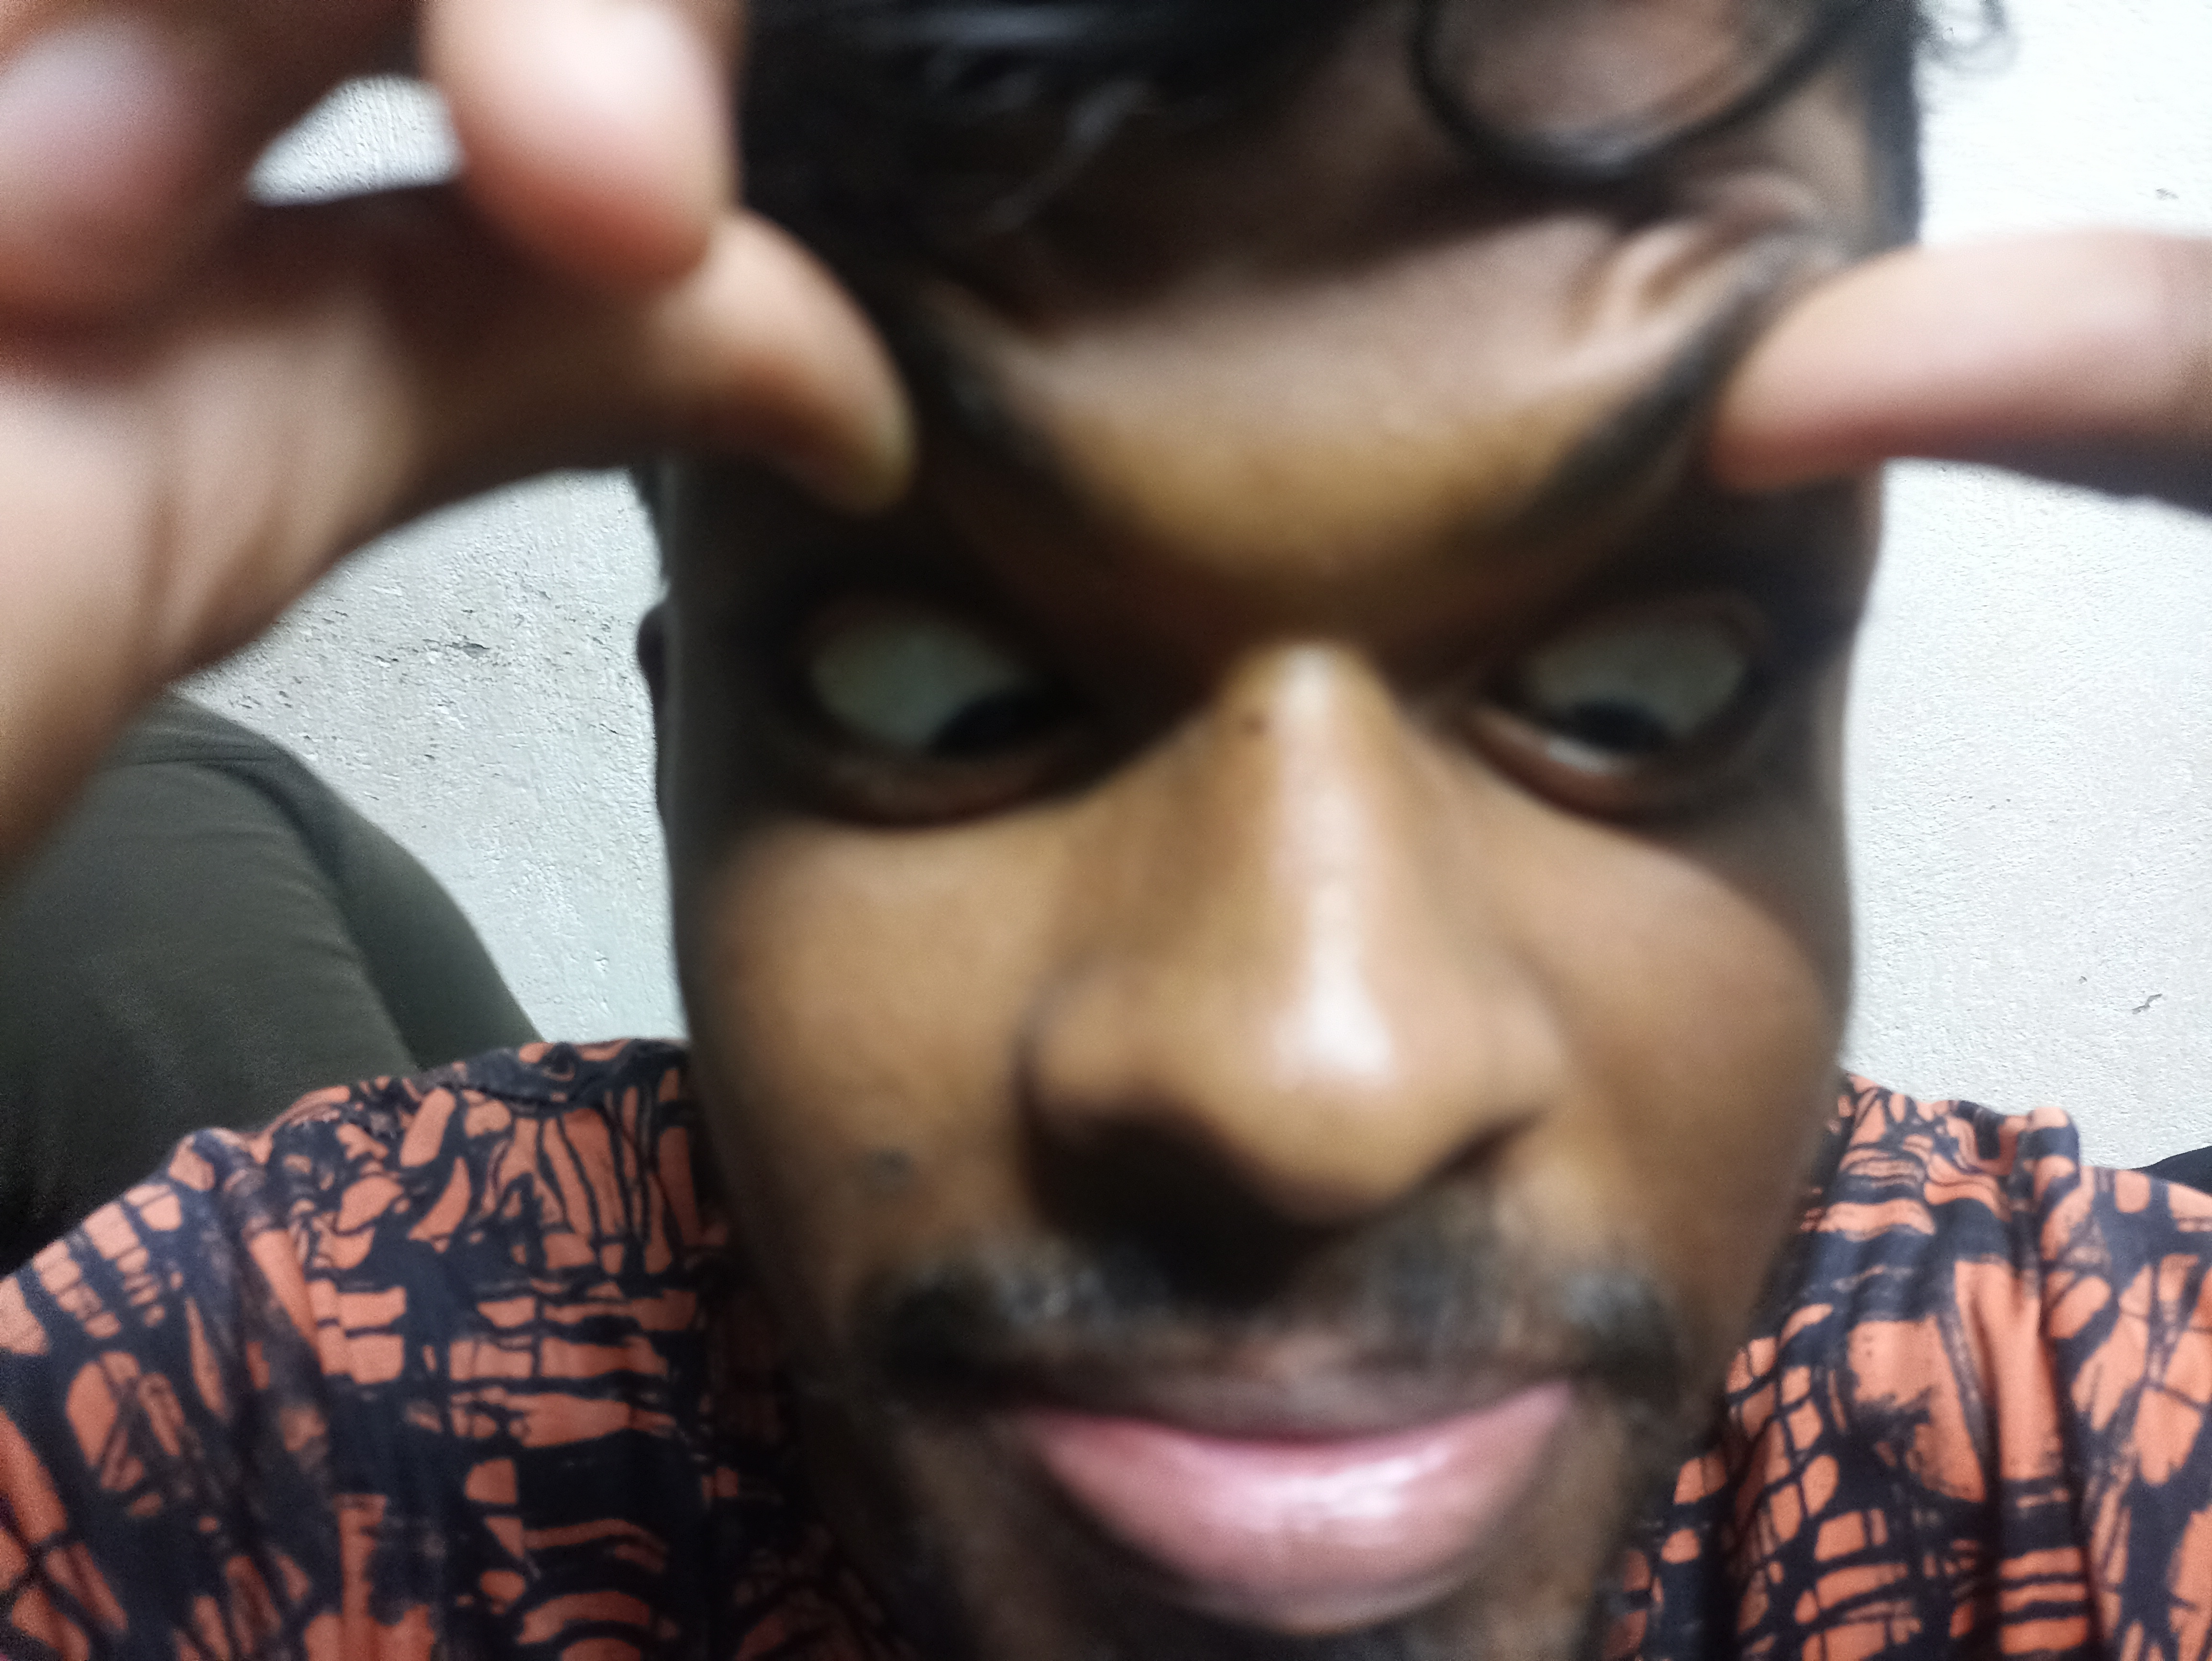EYE DOWN: (529, 393, 1111, 890), (1385, 380, 1895, 885)
